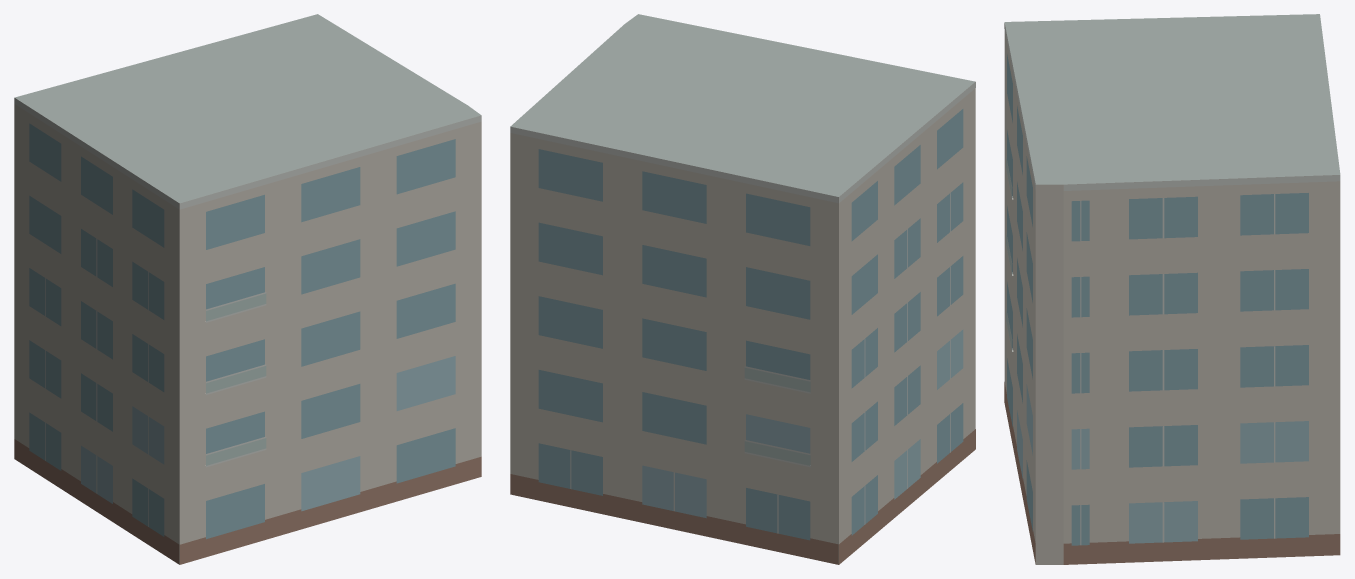
File: survey-upis-32993979.glb
3 renders of one model, left to right at view 1: azimuth 30°, elevation 25°; view 2: azimuth 150°, elevation 25°; view 3: azimuth 270°, elevation 25°, orthographic. The views are drawn at different scales.
Visible parts, largest first — view 1: survey-upis-32993979.tmp; view 2: survey-upis-32993979.tmp; view 3: survey-upis-32993979.tmp.
Boxes of the visible parts, bbox=[...] form: survey-upis-32993979.tmp: bbox=[14, 14, 481, 564]; survey-upis-32993979.tmp: bbox=[510, 14, 975, 564]; survey-upis-32993979.tmp: bbox=[1004, 14, 1340, 564].
Bounding box in the file's own units: 13.72 × 14.25 × 11.42.
